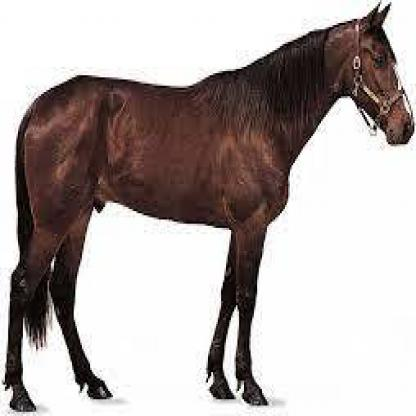horse: (5, 2, 413, 413)
